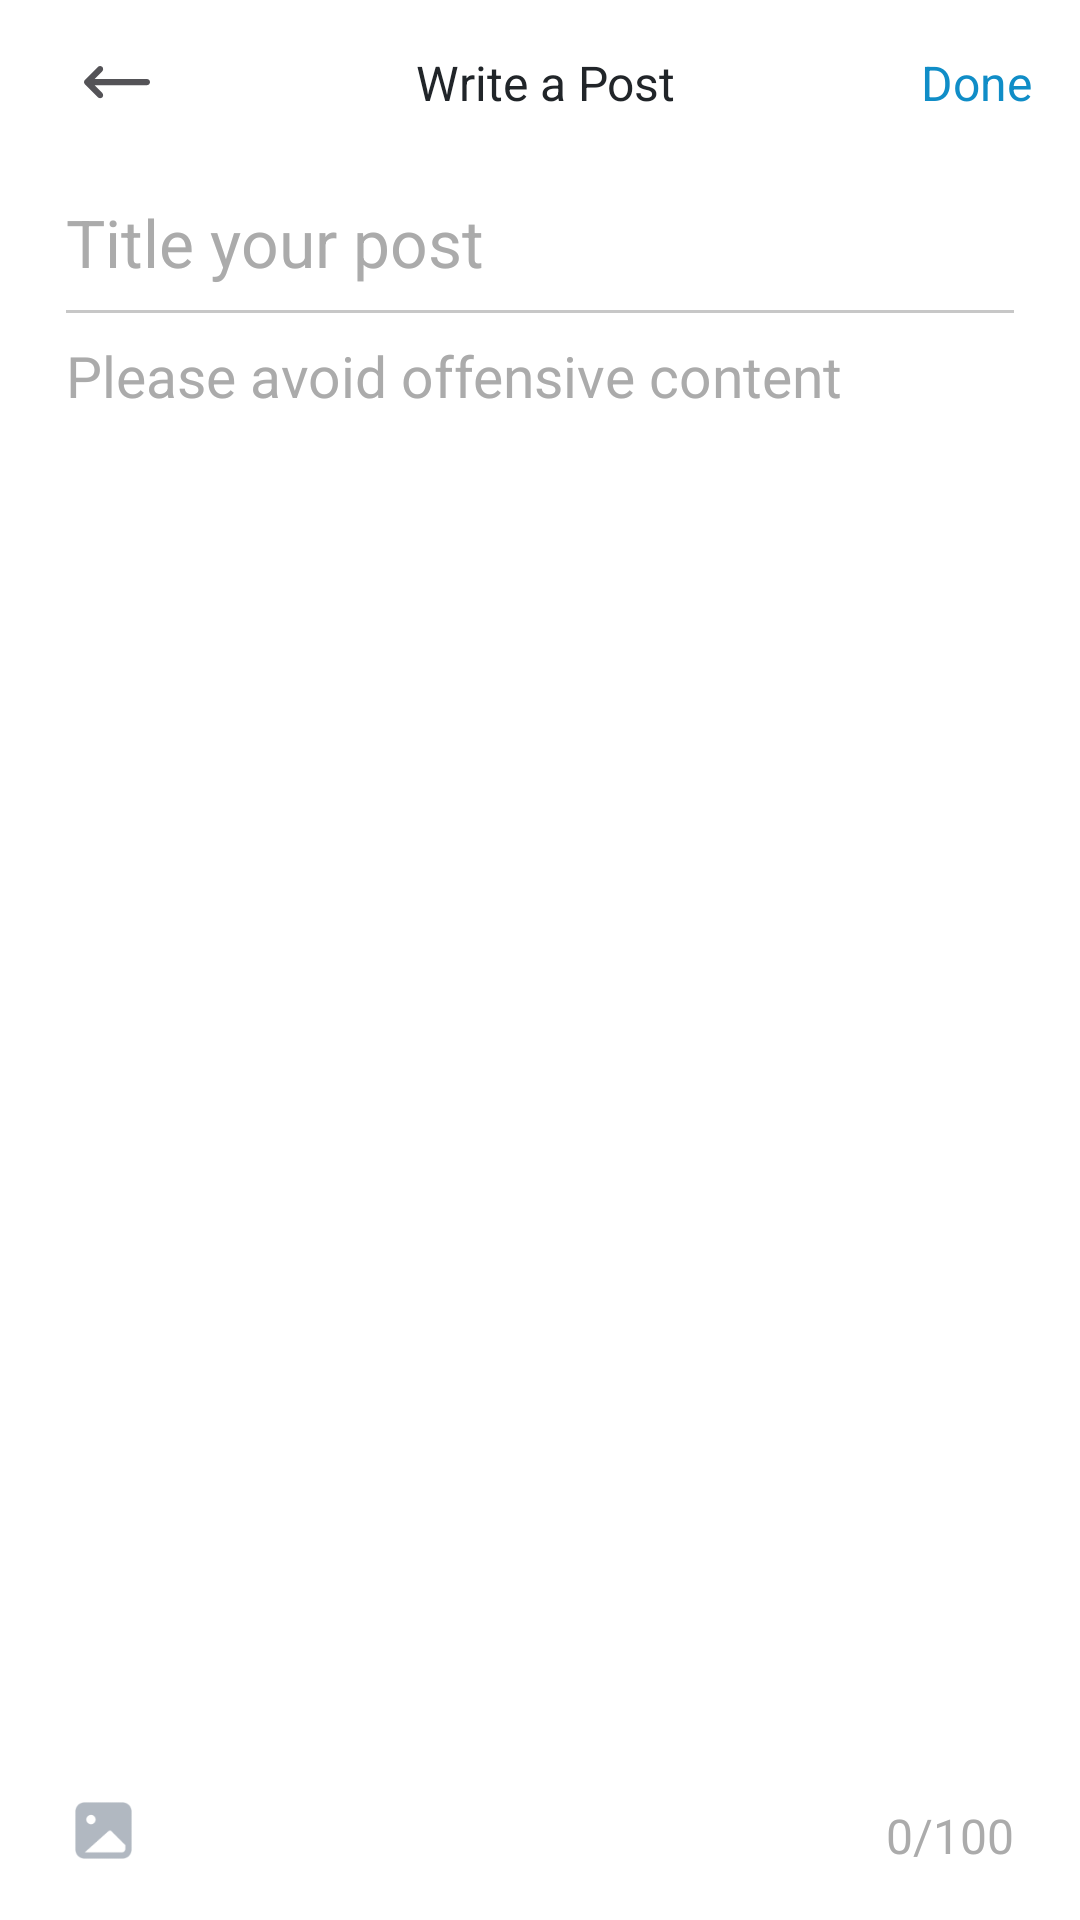

Where icons sit on this 1080 × 1920 app screen, as BBox(x1, y1, x2, y2):
back: BBox(84, 66, 150, 98)
gallery: BBox(75, 1802, 132, 1859)
